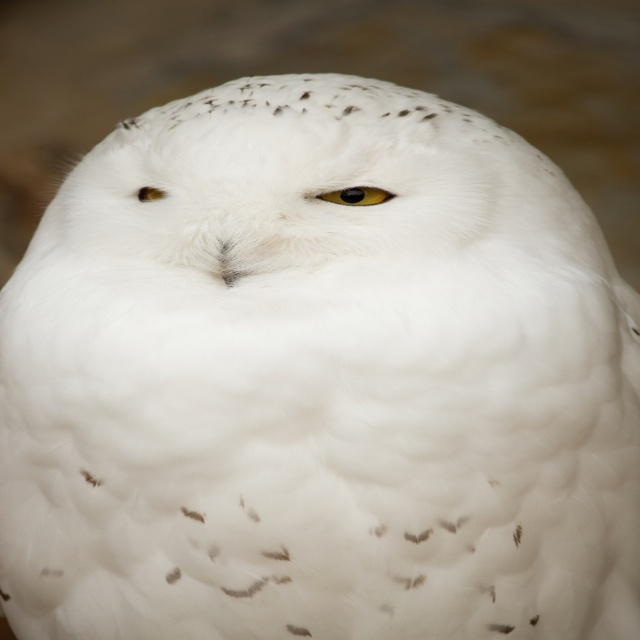Owl: (0, 68, 639, 640)
